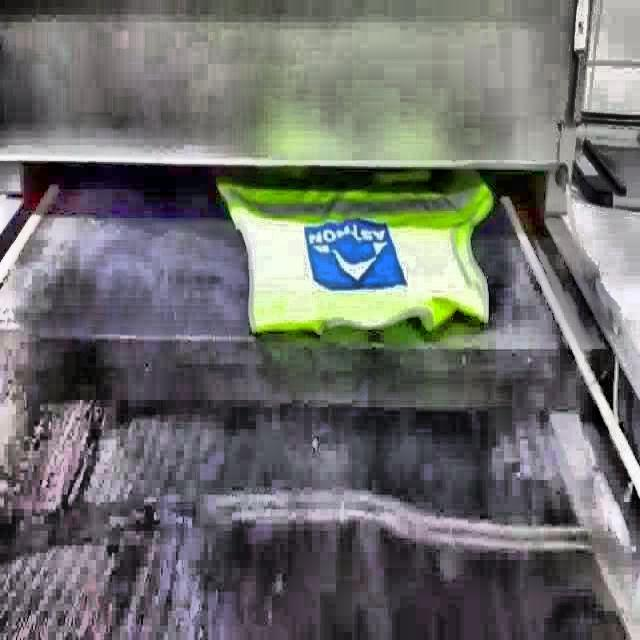safety_jacket: (218, 180, 496, 335)
